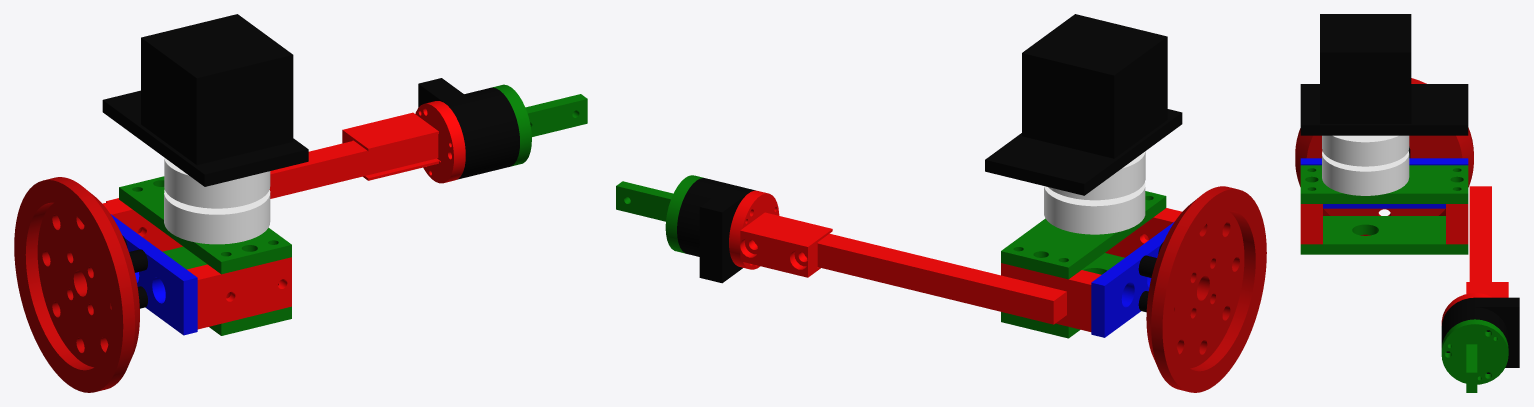
The model's file is FixedR.obj.
3 views of the same model, side by side, from view 1: azimuth 30°, elevation 25°; view 2: azimuth 150°, elevation 25°; view 3: azimuth 270°, elevation 25° (orthographic). The views are drawn at different scales.
Size of the model in its own units: 0.241 by 0.1272 by 0.1005.
